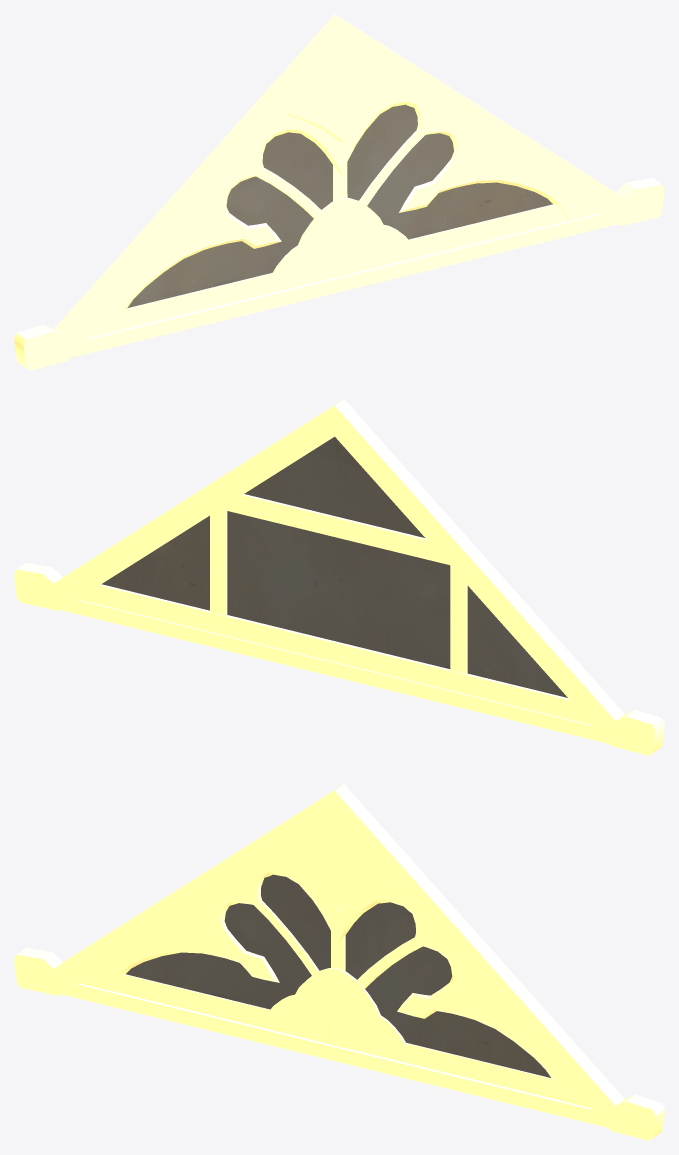
File: Homeworld_Interior_Md_Room_Ceiling_01_Vo.fbx
3 views of the same model, one above another, from view 1: azimuth 30°, elevation 25°; view 2: azimuth 150°, elevation 25°; view 3: azimuth 330°, elevation 25° (orthographic).
Visible parts, largest first — view 1: Homeworld_Interior_Md_Room_Ceiling_01_Vo; view 2: Homeworld_Interior_Md_Room_Ceiling_01_Vo; view 3: Homeworld_Interior_Md_Room_Ceiling_01_Vo.
Boxes of the visible parts, x1=… form: Homeworld_Interior_Md_Room_Ceiling_01_Vo: x1=14, y1=14, x2=664, y2=370; Homeworld_Interior_Md_Room_Ceiling_01_Vo: x1=14, y1=399, x2=664, y2=755; Homeworld_Interior_Md_Room_Ceiling_01_Vo: x1=14, y1=784, x2=664, y2=1140.
Bounding box in the file's own units: 10.75 × 4.38 × 0.2725.
